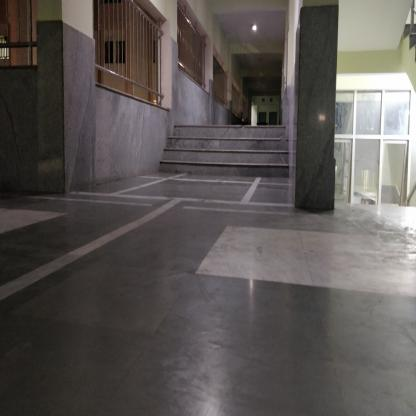stairs: (173, 124, 286, 177)
